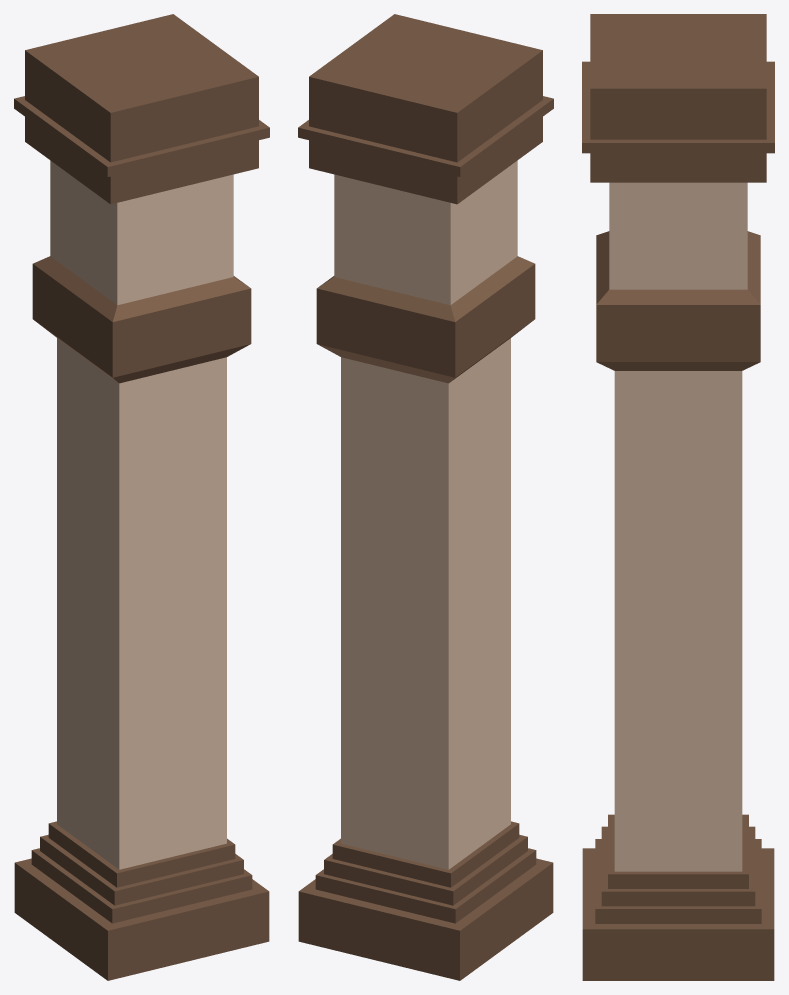
File: Pillar_2_2_10_Colored.fbx
3 views of the same model, side by side, from view 1: azimuth 30°, elevation 25°; view 2: azimuth 150°, elevation 25°; view 3: azimuth 270°, elevation 25° (orthographic). The views are drawn at different scales.
Visible parts, largest first — view 1: Pillar_2_2_10; view 2: Pillar_2_2_10; view 3: Pillar_2_2_10.
Part boxes in pixels (x1,y1,x2,y2): Pillar_2_2_10: (14, 14, 269, 980); Pillar_2_2_10: (298, 14, 553, 980); Pillar_2_2_10: (582, 14, 774, 980).
Size of the model in its own units: 196 by 1000 by 196.
